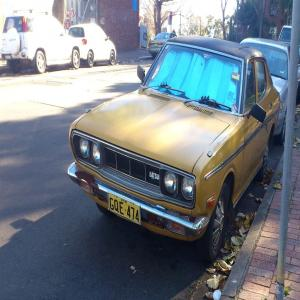Vehicle-registration-plate: (108, 194, 142, 225), (155, 44, 158, 48)
